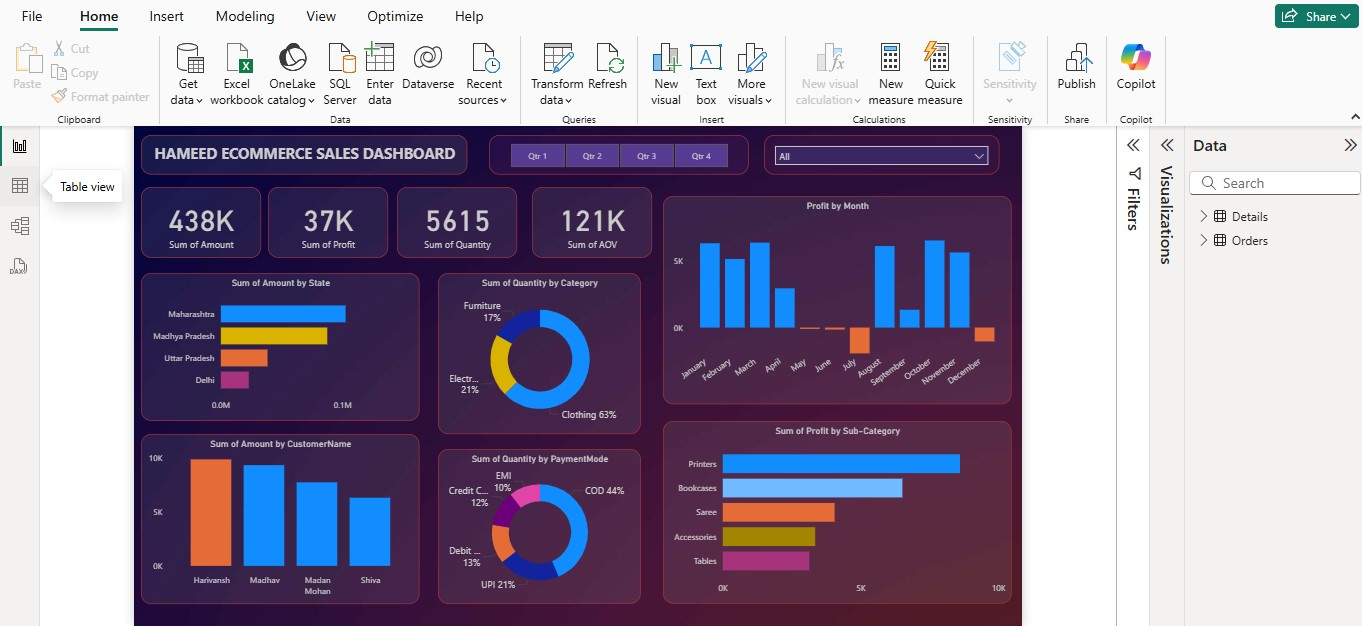

Layout of this report page (visuals, bound fields, positions):
{"tool":"powerbi","page":{"name":"Page 1","canvas":[1280,720],"ordinal":0},"visuals":[{"type":"textbox","box":[10.1,13.4,469.7,57],"z":0},{"type":"columnChart","title":"Profit by Month","fields":{"Category":["Orders.Order Date.Variation.Date Hierarchy.Month"],"Y":["Details.Profit"]},"box":[761.6,100.7,501.6,300.3],"z":1000},{"type":"barChart","fields":{"Category":["Details.Sub-Category"],"Y":["Details.Profit"]},"box":[761.6,424.4,501.6,263.4],"z":2000},{"type":"donutChart","fields":{"Category":["Details.Category"],"Y":["Details.Quantity"]},"box":[437.9,211.4,291.9,231.5],"z":3000},{"type":"donutChart","fields":{"Y":["Details.Quantity"],"Category":["Details.PaymentMode"]},"box":[437.9,464.7,291.9,223.1],"z":4000},{"type":"card","fields":{"Values":["Details.Amount"]},"box":[10.1,87.2,172.8,102.3],"z":5000},{"type":"card","fields":{"Values":["Details.Profit"]},"box":[192.9,87.2,172.8,102.3],"z":6000},{"type":"card","fields":{"Values":["Details.Quantity"]},"box":[379.1,87.2,172.8,102.3],"z":7000},{"type":"card","fields":{"Values":["Details.AOV"]},"box":[573.7,87.2,172.8,102.3],"z":8000},{"type":"barChart","fields":{"Category":["Orders.State"],"Y":["Details.Amount"]},"box":[10.1,211.4,400.9,213.1],"z":9000},{"type":"columnChart","fields":{"Category":["Orders.CustomerName"],"Y":["Details.Amount"]},"box":[10.1,442.9,400.9,244.9],"z":10000},{"type":"slicer","fields":{"Values":["Orders.Order Date.Variation.Date Hierarchy.Quarter"]},"box":[511.7,13.4,374.1,57],"z":11000},{"type":"slicer","fields":{"Values":["Orders.State"]},"box":[907.6,13.4,338.9,57],"z":12000}]}

Visuals, with their boxes on the page's 1280x720 design canvas (x1, y1, x2, y2). These are canvas units, not pixel positions in the 1362x626 screenshot, which may show the page scaled, cropped or inside an application window:
textbox: left=10, top=13, right=480, bottom=70
"Profit by Month" columnChart: left=762, top=101, right=1263, bottom=401
barChart - Details.Sub-Category x Details.Profit: left=762, top=424, right=1263, bottom=688
donutChart - Details.Category x Details.Quantity: left=438, top=211, right=730, bottom=443
donutChart - Details.Quantity x Details.PaymentMode: left=438, top=465, right=730, bottom=688
card - Details.Amount: left=10, top=87, right=183, bottom=190
card - Details.Profit: left=193, top=87, right=366, bottom=190
card - Details.Quantity: left=379, top=87, right=552, bottom=190
card - Details.AOV: left=574, top=87, right=746, bottom=190
barChart - Orders.State x Details.Amount: left=10, top=211, right=411, bottom=424
columnChart - Orders.CustomerName x Details.Amount: left=10, top=443, right=411, bottom=688
slicer - Orders.Order Date.Variation.Date Hierarchy.Quarter: left=512, top=13, right=886, bottom=70
slicer - Orders.State: left=908, top=13, right=1246, bottom=70
